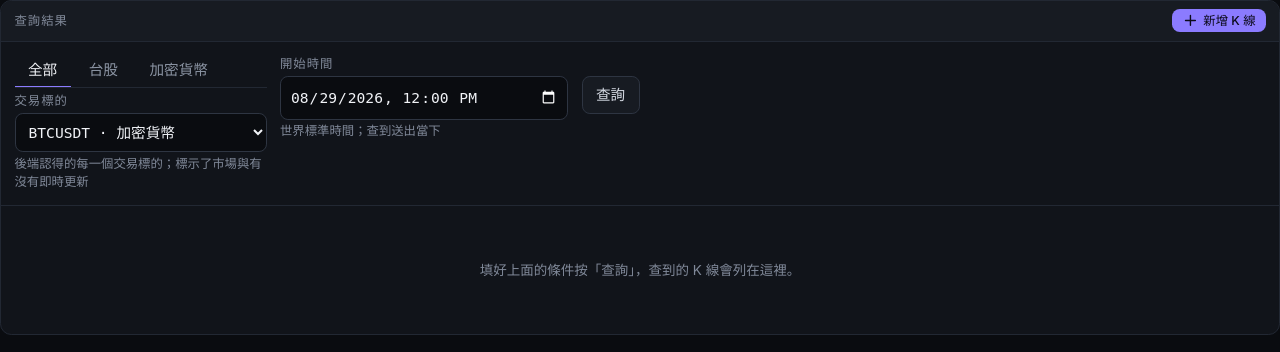
Scenario: KCandleSearchPanel › 以使用者輸入的開始時間查到目前時間，並列出查到的 K 線
The image size is (1280, 352).
Replace the text in the field with test id "start-time-input" with "2026-08-30T06:00" at (424, 98), box top-left (280, 76), bottom-right (568, 120)
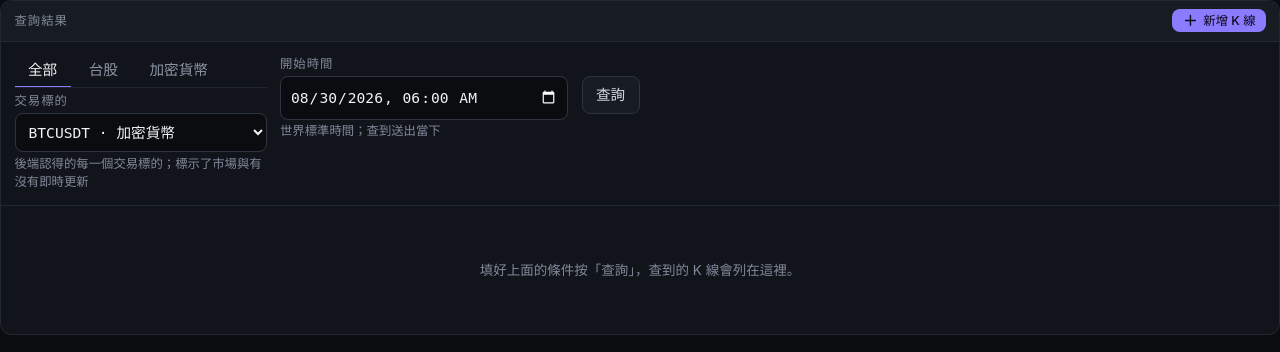
Submit the form, box top-left (14, 55), bottom-right (640, 189)
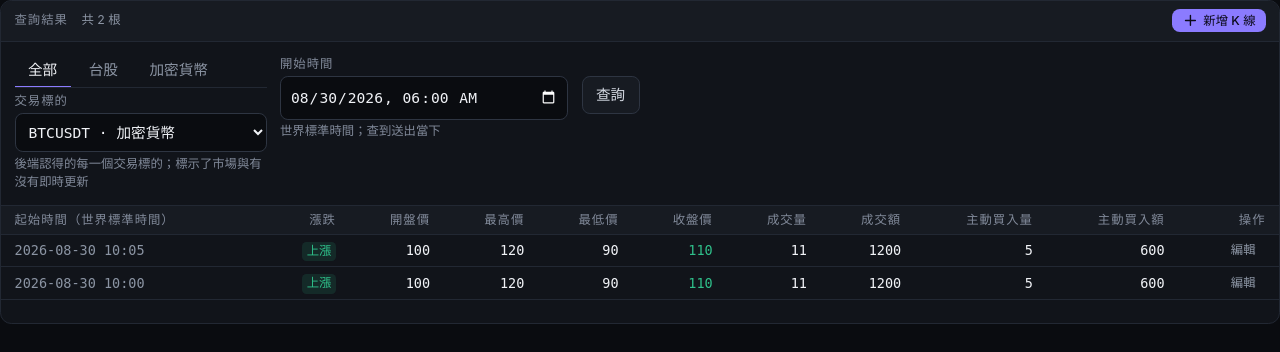
Expected: the number of rows with test id "k-candle-row" is 2, top-left (1, 235), bottom-right (1279, 267); top-left (1, 267), bottom-right (1279, 300)
Expected: the text with test id "result-count" reads "共 2 根", top-left (81, 12), bottom-right (121, 28)
